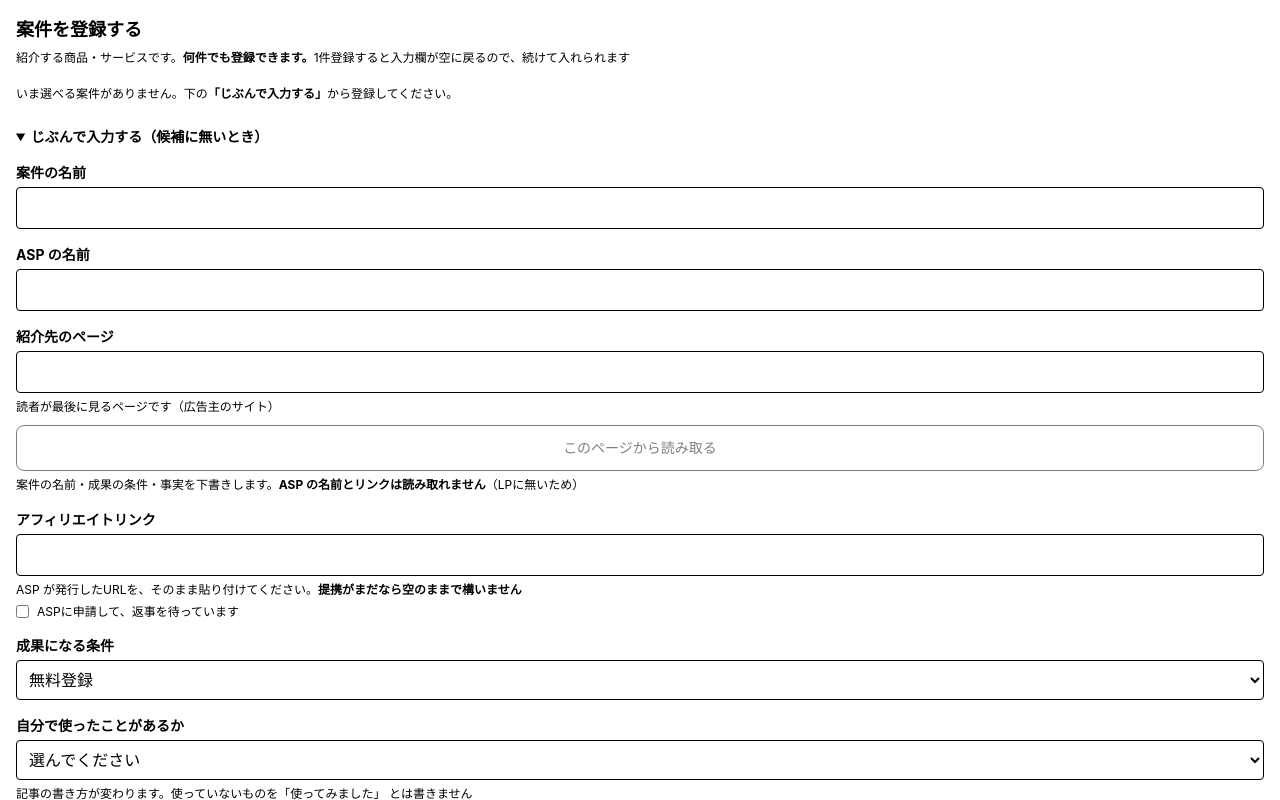
Test: 登録できる › 保存に失敗すると理由を出す
Type "格安SIM案件" into the field labelled "案件の名前" at (640, 208), box [16,187,1264,229]
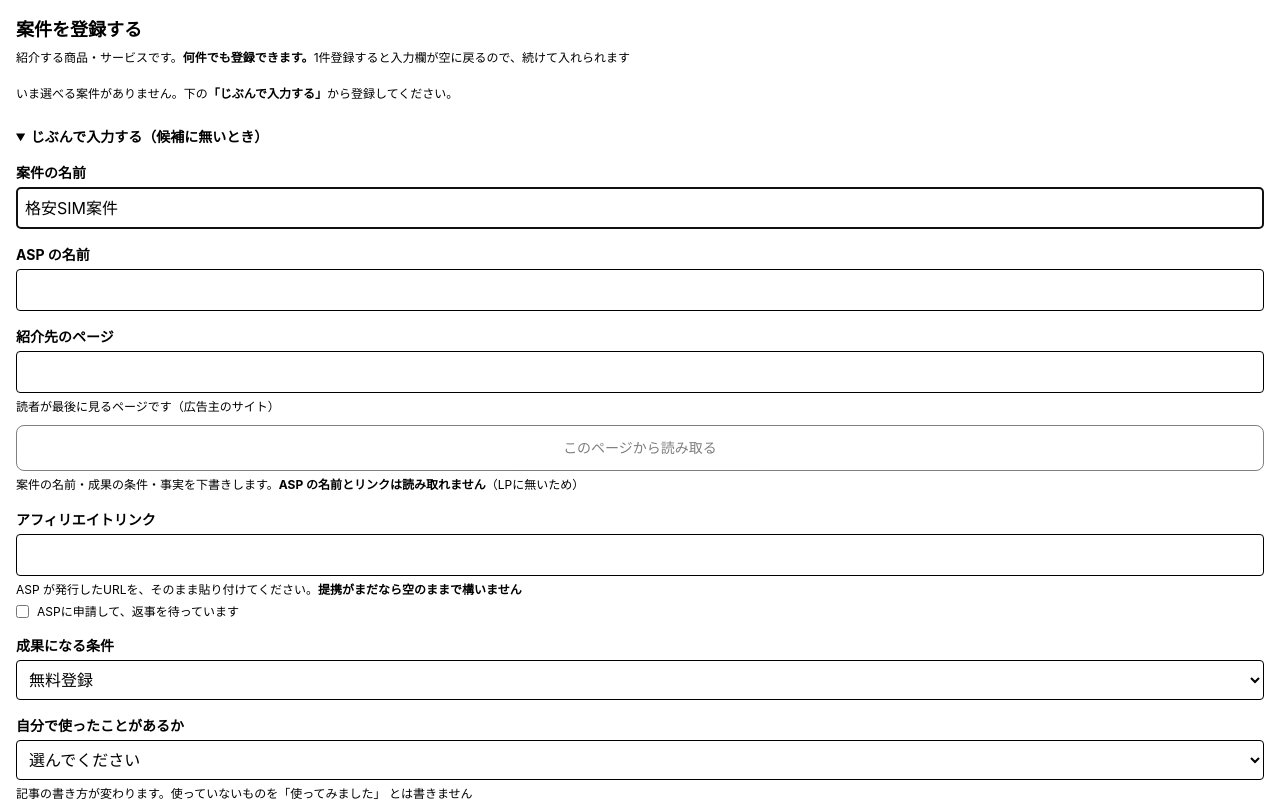
Type "サンプルASP" into the field labelled "ASP の名前" at (640, 290), box [16,269,1264,311]
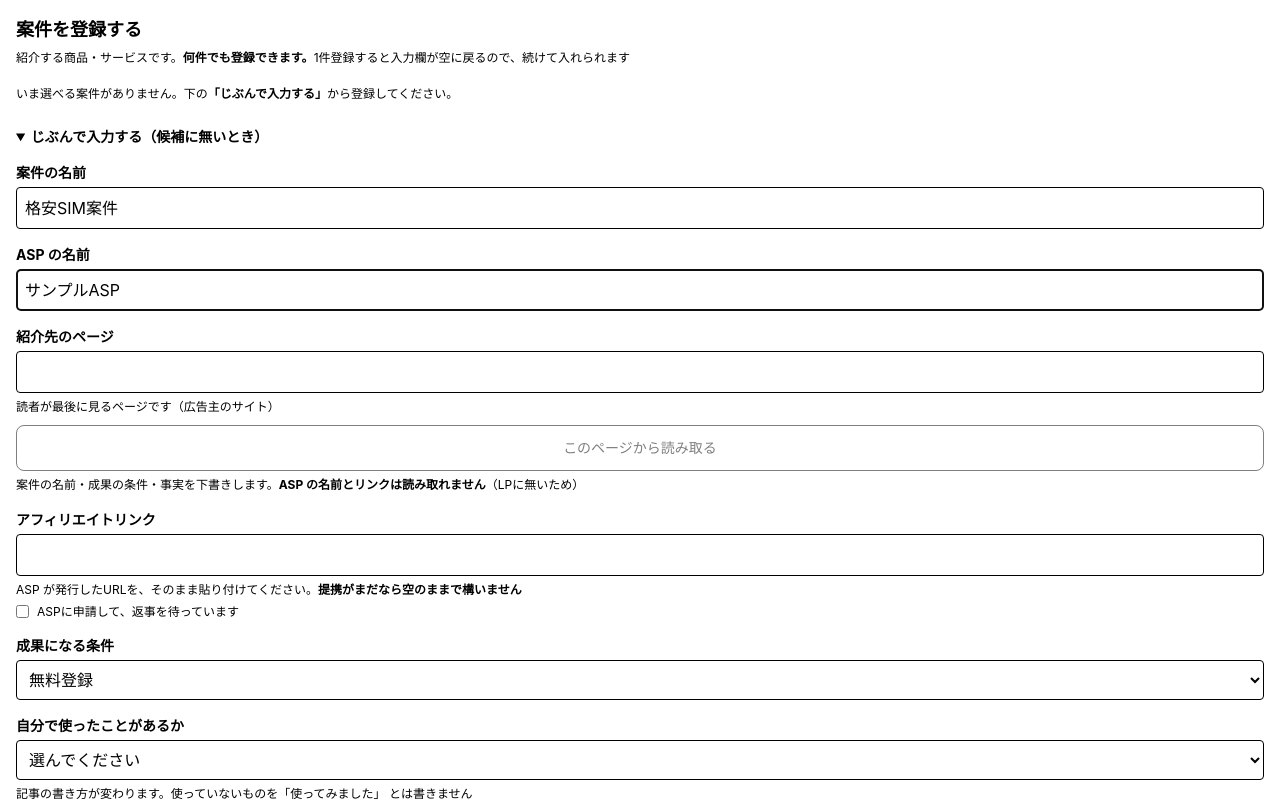
Type "https://lp.example.com/offer" into the field labelled "紹介先のページ" at (640, 372), box [16,351,1264,393]
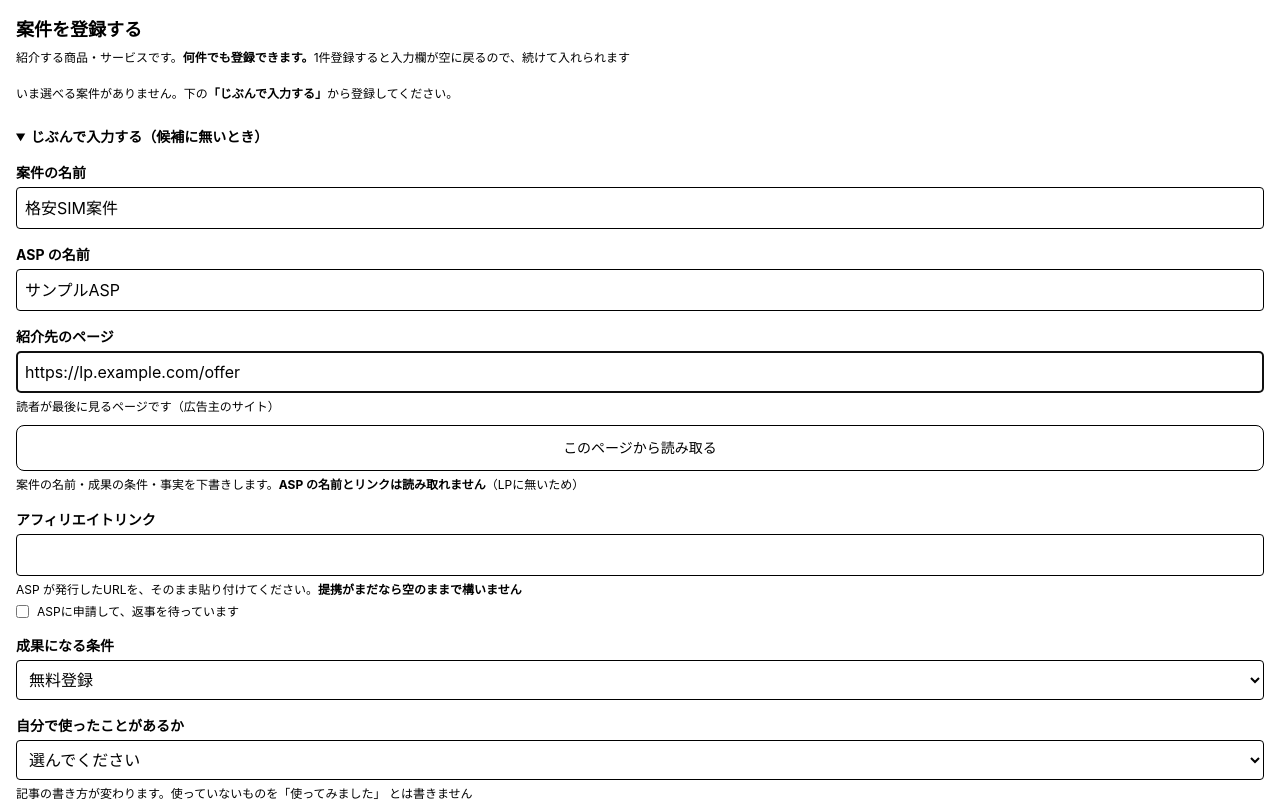
Type "https://asp.example/click?a=xxxx" into the field labelled "アフィリエイトリンク" at (640, 555), box [16,534,1264,576]
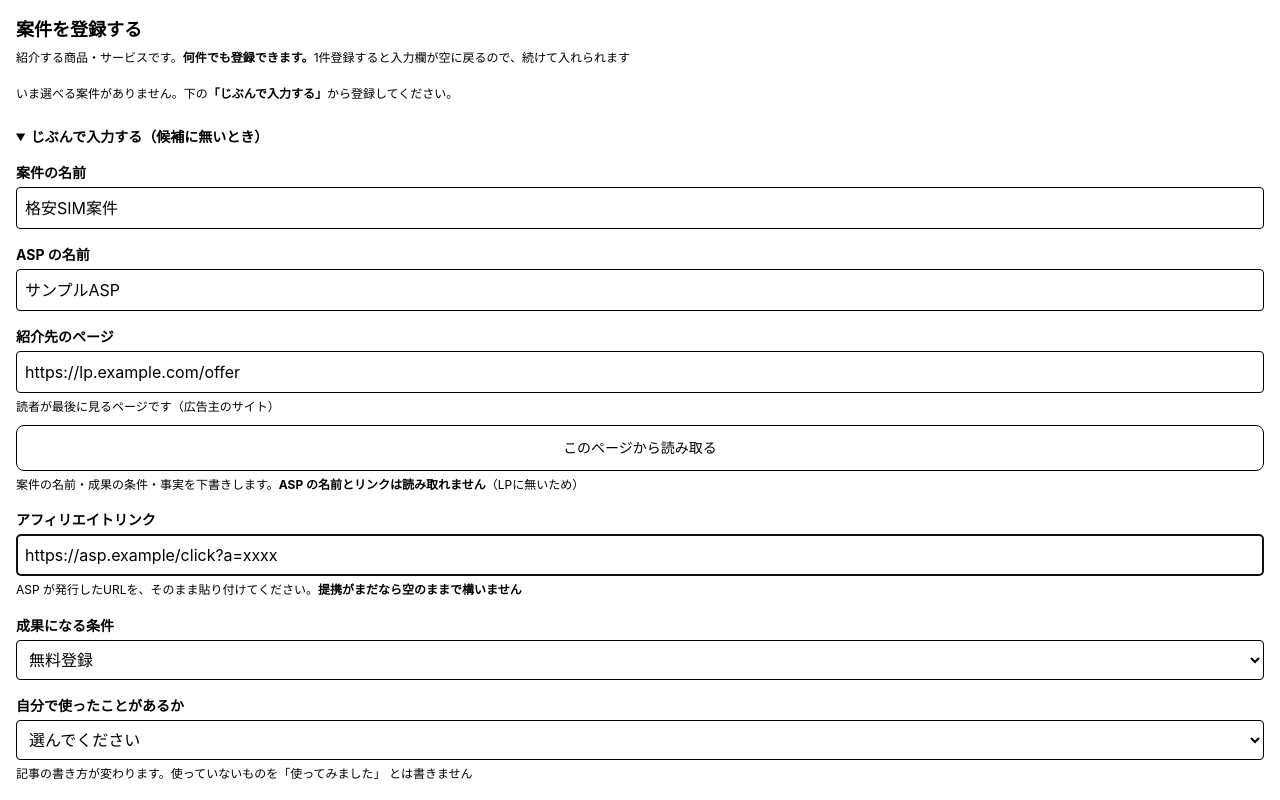
Select "使ったことがある" in the dropdown labelled "自分で使ったことがあるか" at (640, 740), box [16,720,1264,760]
(page scrolled)
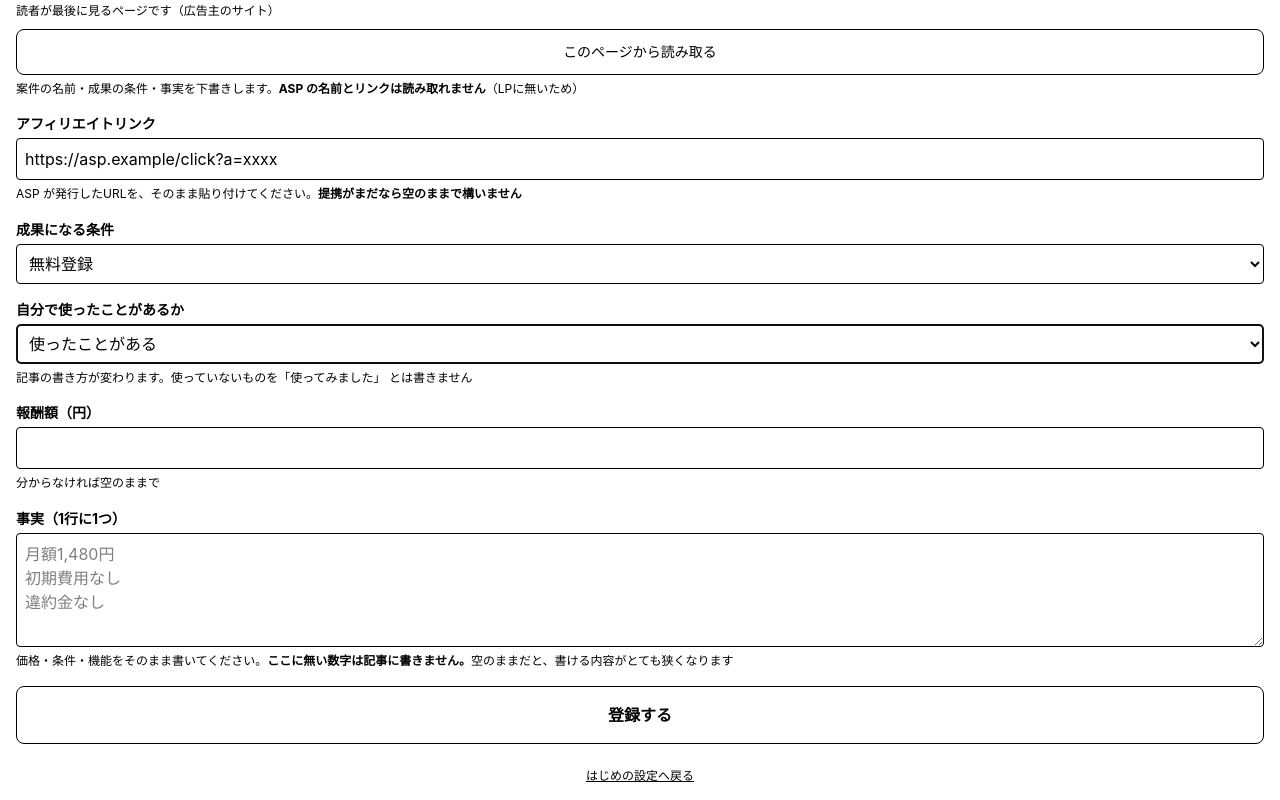
Click the button "登録する" at (640, 715), box [16,686,1264,744]
(page scrolled)
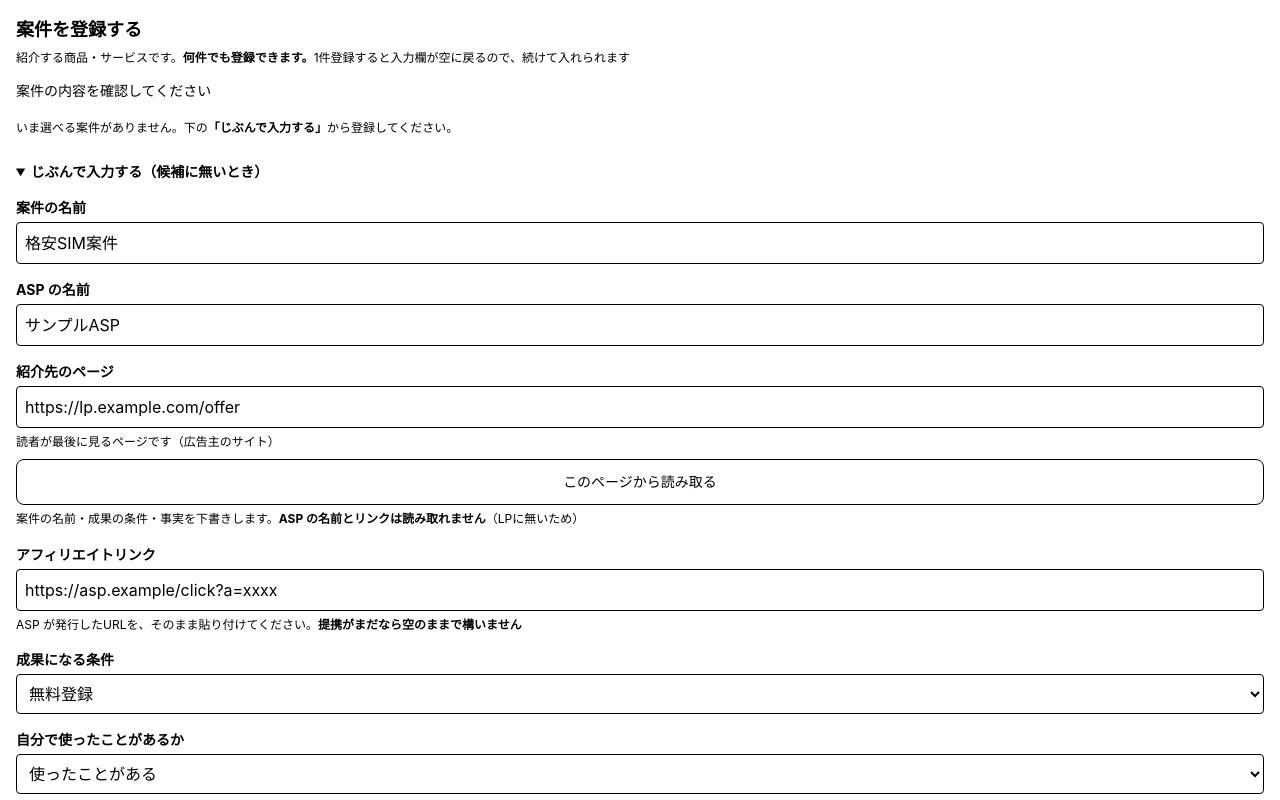
Check: the text "案件の内容を確認してください" is shown, box [16,82,211,98]
